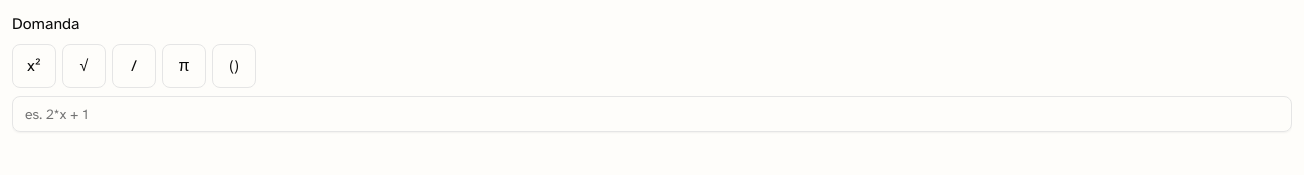
Test case: InputEspressione: tastiera di simboli › un tasto inserisce al punto del cursore, non in fondo al campo
In the field: (652, 114) [12,96,1292,132], type "12"
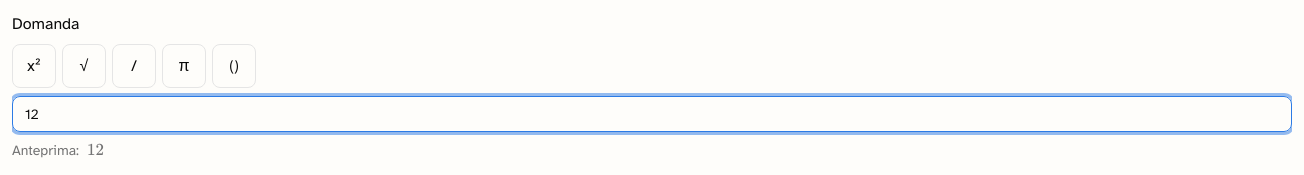
Click the button with aria-label "Potenza": (34, 66) [12,44,56,88]
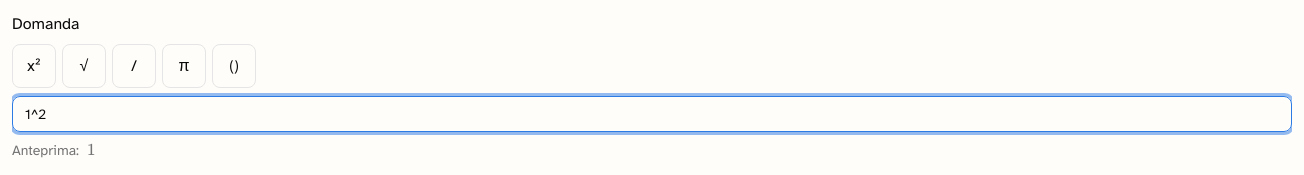
expect the field holds "1^2": met
In the field: (652, 114) [12,96,1292,132], type "3"
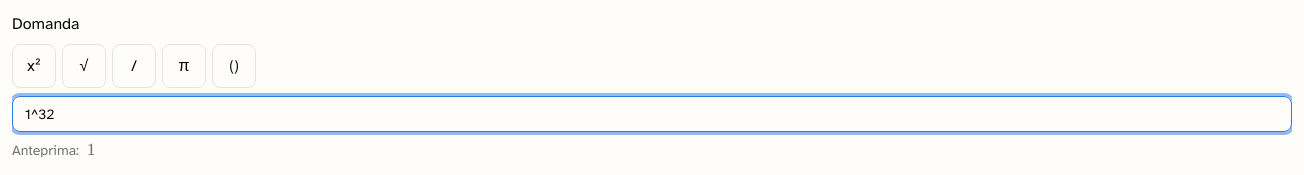
expect the field holds "1^32": met, box [12,96,1292,132]
